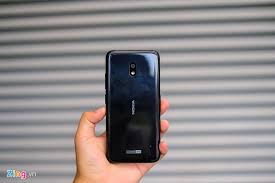nokia: (103, 44, 162, 166)
